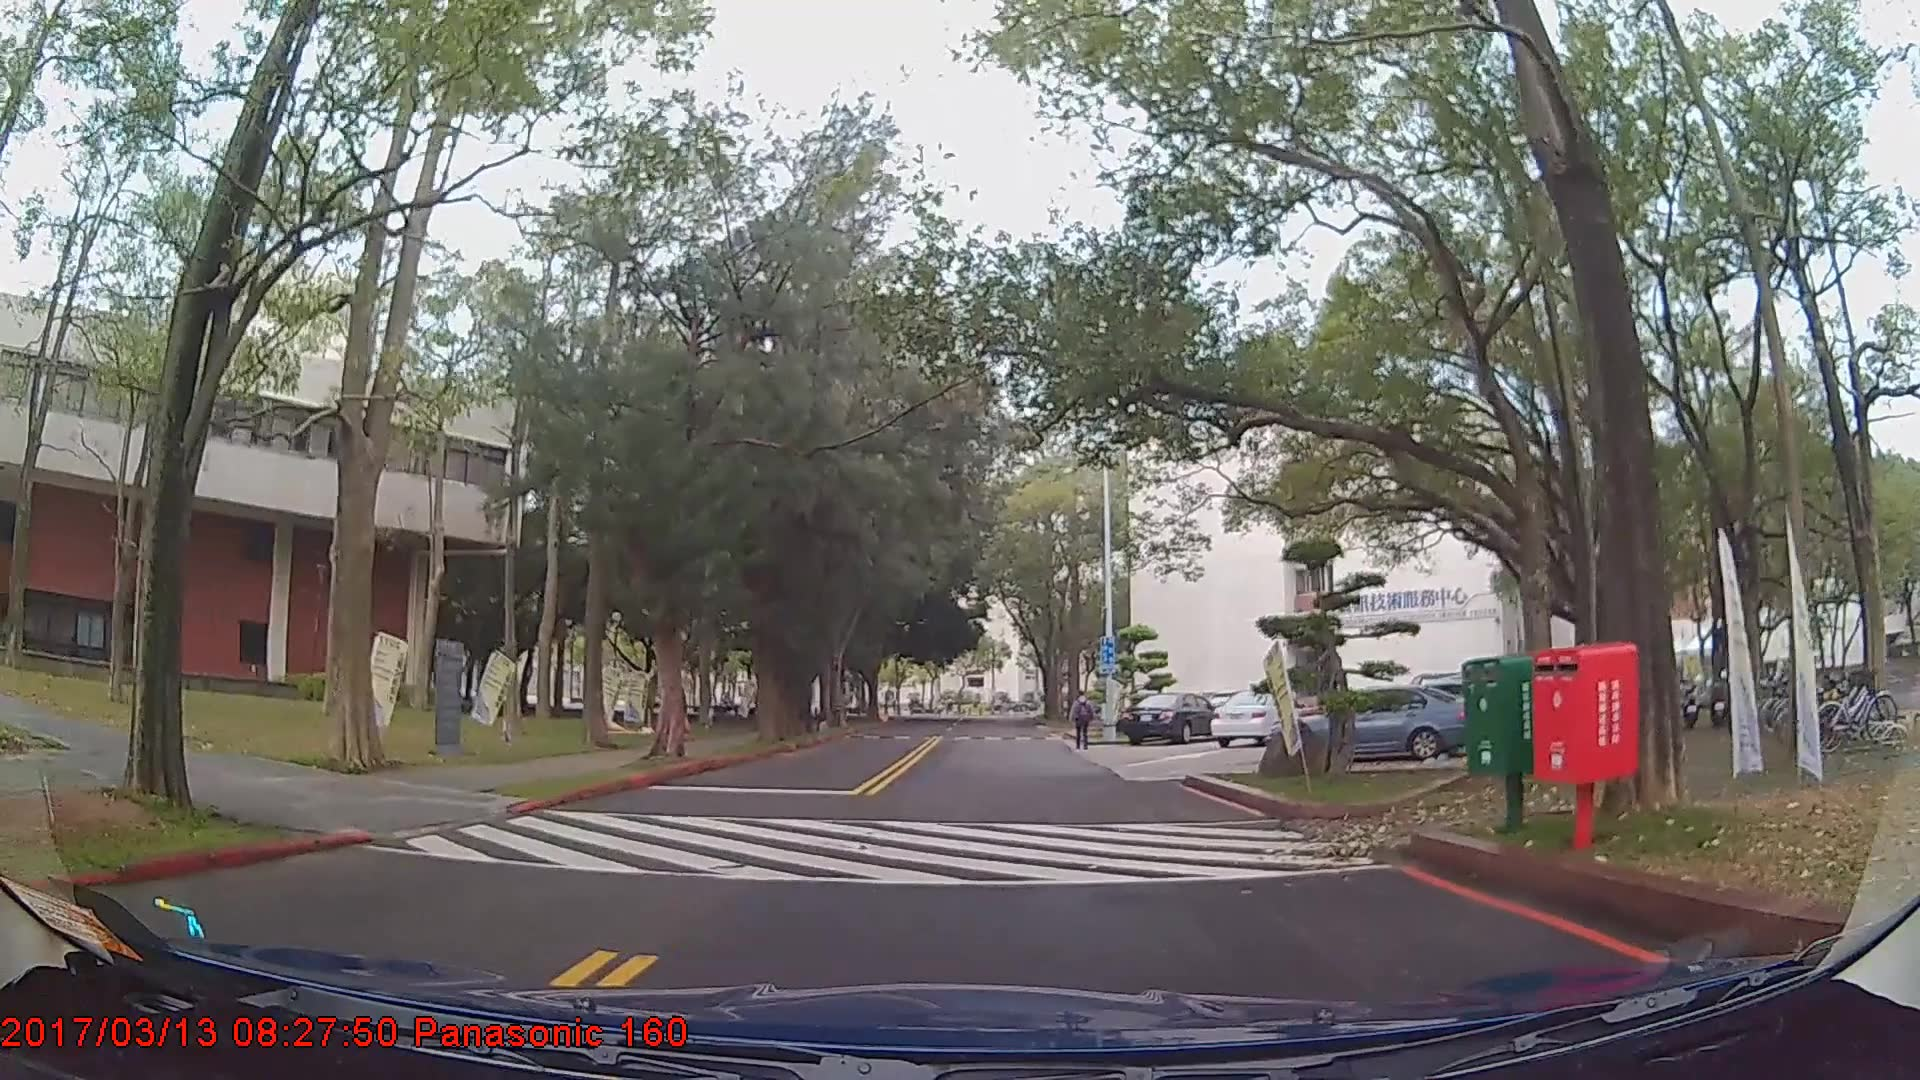pedestrian: (1070, 690, 1097, 751)
vehicle: (1277, 681, 1483, 766), (1114, 691, 1221, 742), (1207, 687, 1297, 746)
